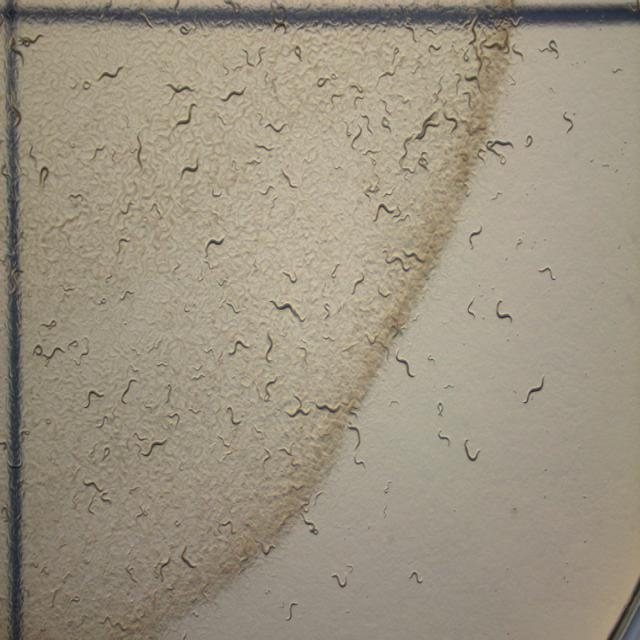filarid: (382, 247, 425, 271), (269, 299, 306, 322), (348, 422, 366, 466), (331, 562, 354, 589), (84, 480, 111, 503), (285, 394, 311, 417), (256, 375, 278, 401), (395, 350, 415, 378), (524, 375, 544, 403), (462, 439, 481, 464), (228, 337, 250, 357), (374, 202, 395, 222), (154, 556, 171, 580), (495, 299, 512, 321), (312, 402, 345, 413), (85, 389, 104, 406), (302, 515, 318, 535), (264, 330, 274, 362), (205, 239, 225, 254), (222, 299, 240, 314), (228, 405, 241, 425), (352, 274, 365, 293), (438, 429, 451, 447), (470, 227, 482, 246), (466, 297, 476, 318), (282, 270, 298, 283), (125, 564, 135, 581), (409, 571, 422, 584), (331, 262, 340, 277), (324, 302, 330, 318), (301, 347, 308, 360), (428, 354, 436, 365), (88, 500, 94, 514), (344, 344, 355, 350), (395, 205, 401, 216), (90, 444, 96, 453), (186, 561, 195, 567), (400, 214, 409, 220), (444, 384, 454, 389), (324, 335, 334, 340), (438, 402, 442, 414), (385, 482, 389, 493), (290, 602, 293, 616), (541, 267, 550, 271)
